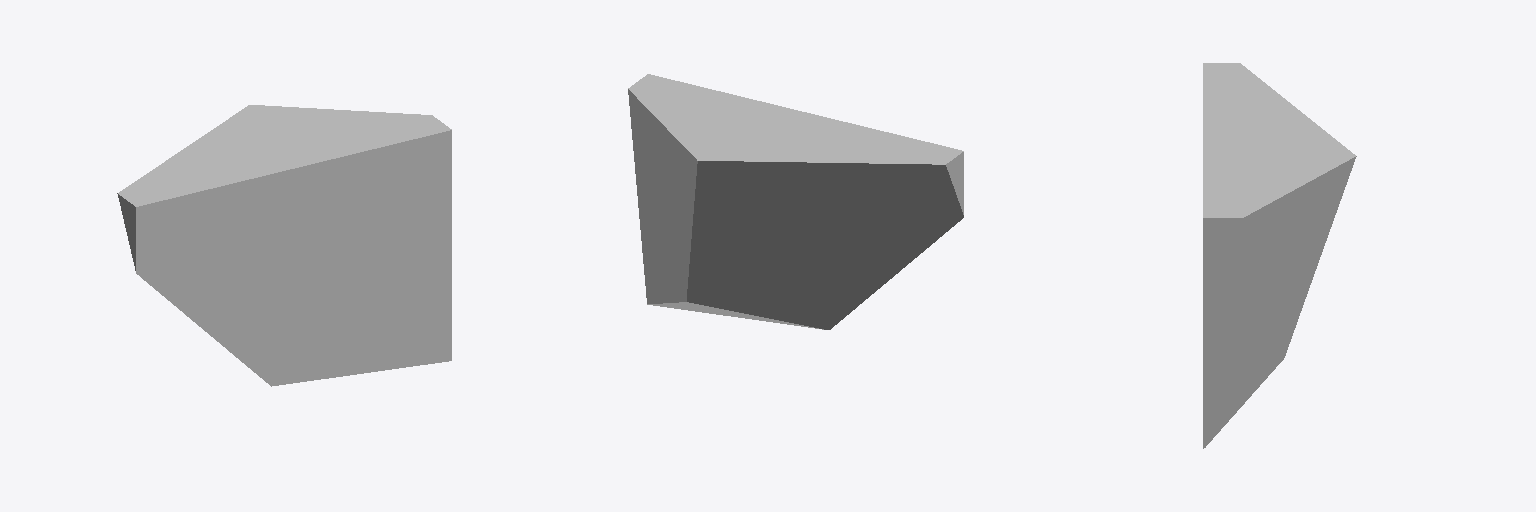
Rendered from CubeShatter08.obj.
3 views of the same model, side by side, from view 1: azimuth 30°, elevation 25°; view 2: azimuth 150°, elevation 25°; view 3: azimuth 270°, elevation 25° (orthographic).
Parts seen in each view (by area): view 1: CubeShatter08; view 2: CubeShatter08; view 3: CubeShatter08.
Boxes of the visible parts, box(x1,y1,x2,y2) form: CubeShatter08: box(117, 105, 451, 386); CubeShatter08: box(628, 74, 963, 329); CubeShatter08: box(1203, 63, 1356, 448).
Size of the model in its own units: 2 by 1.4 by 0.8396.